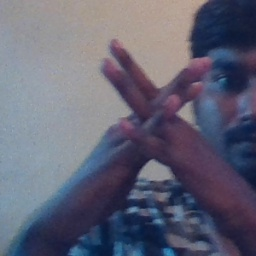W: (91, 33, 220, 188)
